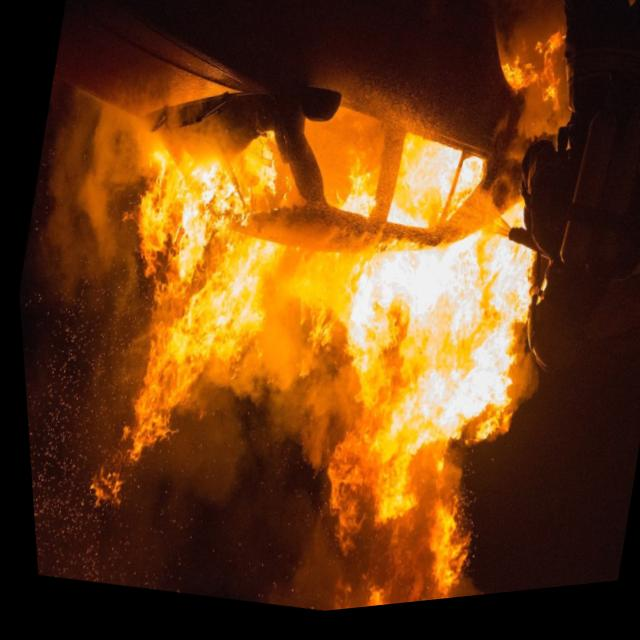Fire: (30, 0, 621, 593)
